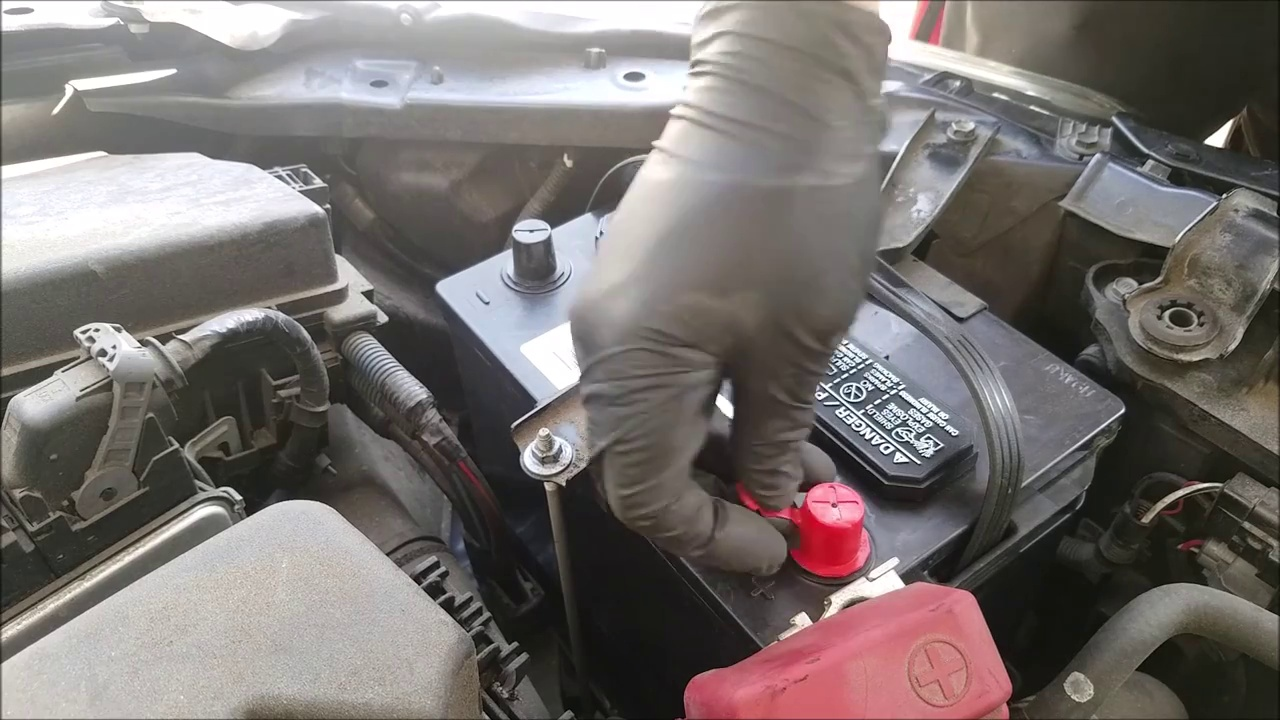battery: (453, 206, 1127, 626)
pos_disconnected: (769, 460, 981, 720)
pos_touched: (620, 337, 984, 715)
